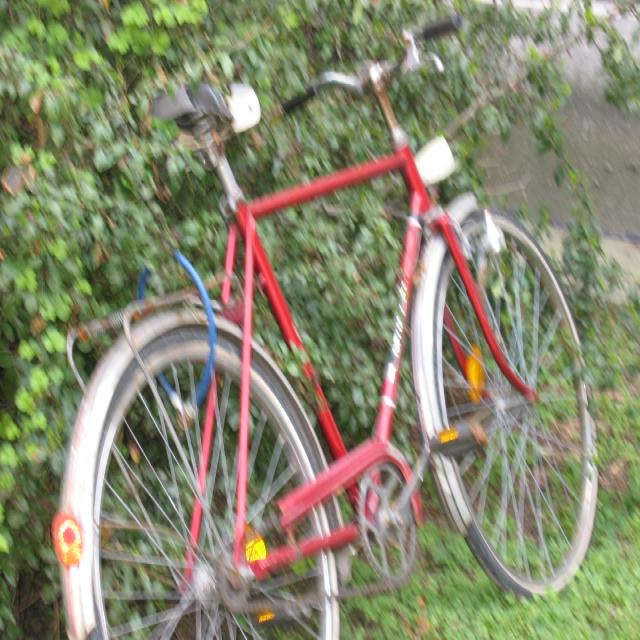bicycle: (52, 11, 598, 638)
